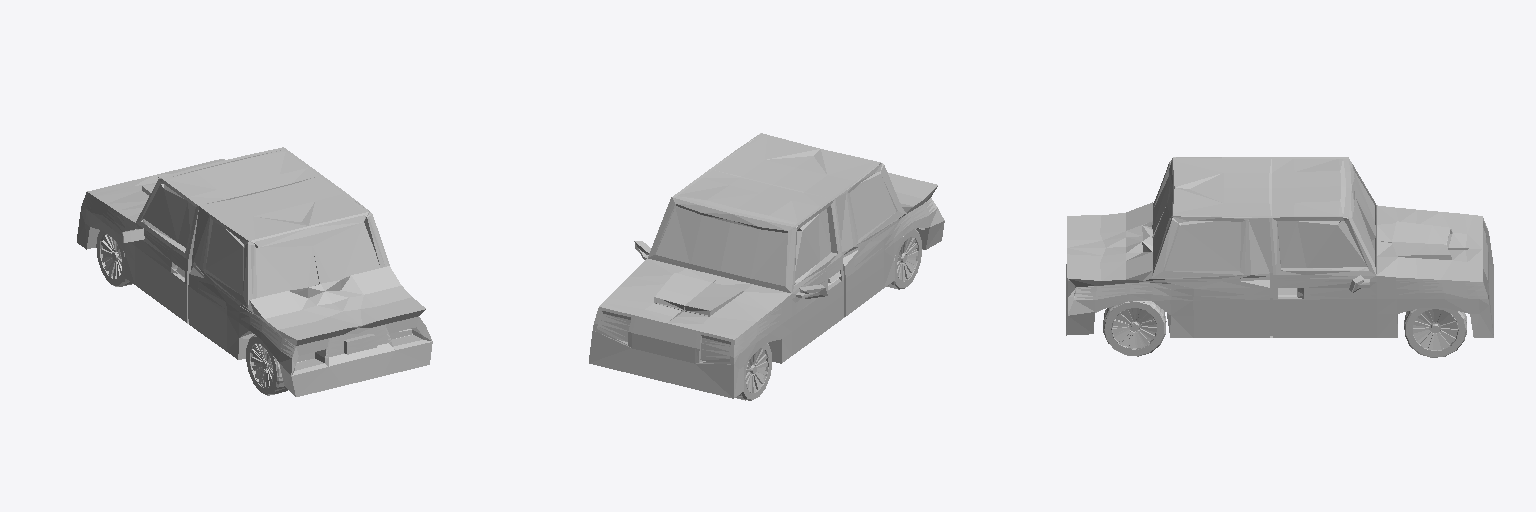
Rendered from car.obj.
The picture shows the model from 3 angles: view 1: azimuth 30°, elevation 25°; view 2: azimuth 150°, elevation 25°; view 3: azimuth 270°, elevation 25°; orthographic projection.
Parts seen in each view (by area): view 1: Cube; view 2: Cube; view 3: Cube.
Boxes of the visible parts, <box> form: Cube: <box>77,147,432,396</box>; Cube: <box>589,133,944,400</box>; Cube: <box>1066,157,1493,357</box>.
Bounding box in the file's own units: 3.6 × 2.49 × 6.9.